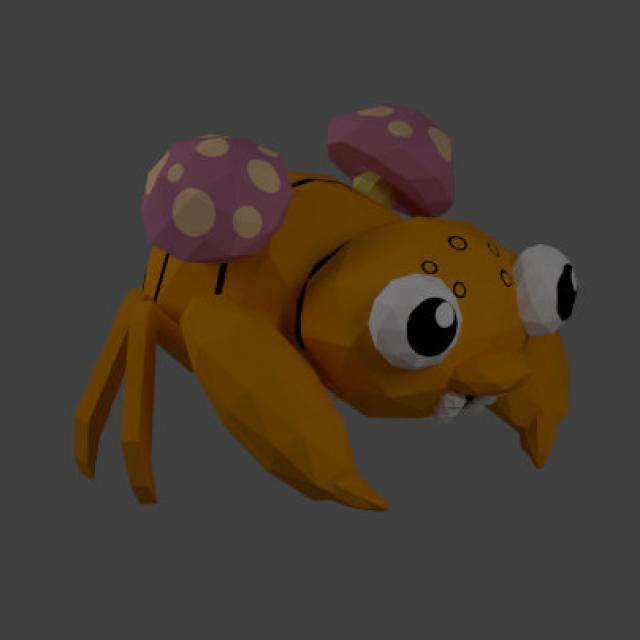Paras: (117, 106, 588, 506)
